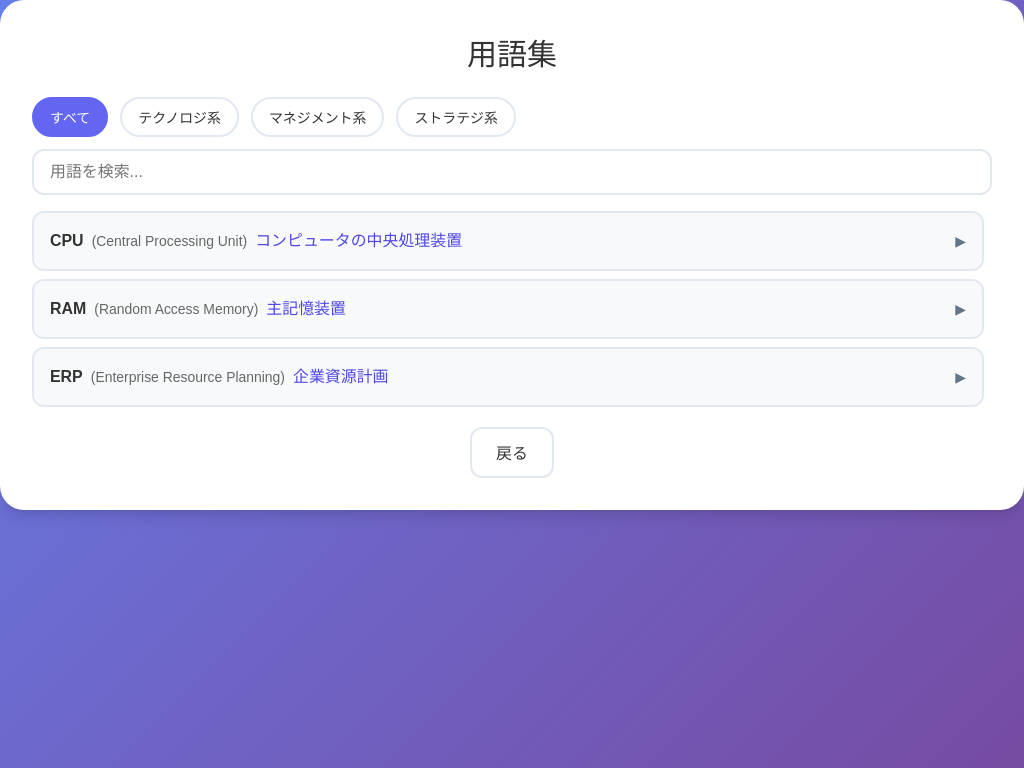
Test: Glossary › term expansion › should expand term details when clicked
The width and height of the screenshot is (1024, 768).
Expected: the text "CPU" is shown, [50, 229, 84, 253]
Expected: the text "コンピュータの頭脳にあたる部分です。" is not shown
Note: Click to expand
Step 1. Click the text "コンピュータの中央処理装置" → point(359, 240), box [255, 232, 462, 249]
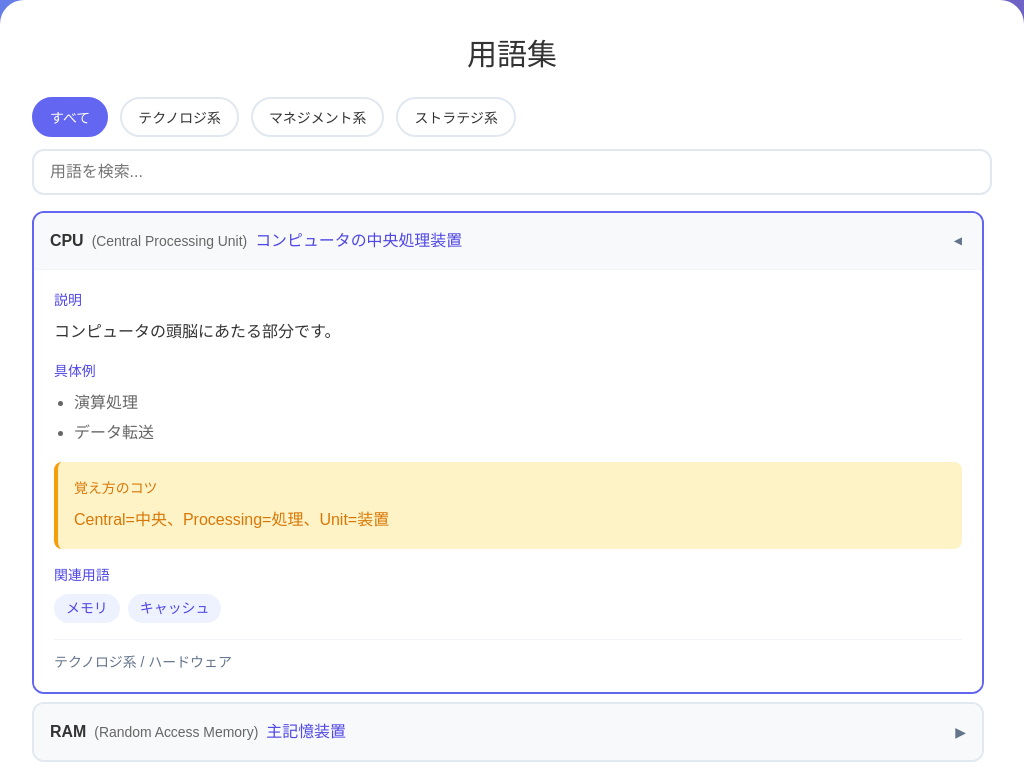
Now the text "コンピュータの頭脳にあたる部分です。" is shown, box [54, 323, 340, 340]
Now the text "Central=中央、Processing=処理、Unit=装置" is shown, box [74, 511, 389, 528]
